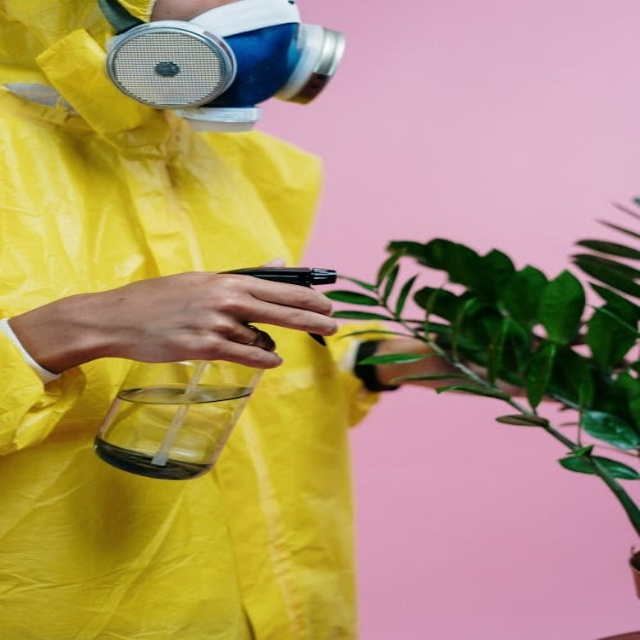Mascara: (97, 3, 357, 120)
Sin_guantes: (64, 258, 343, 375)
